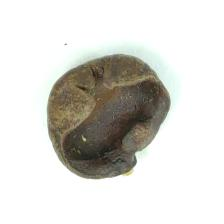NG: (61, 79, 170, 175)
